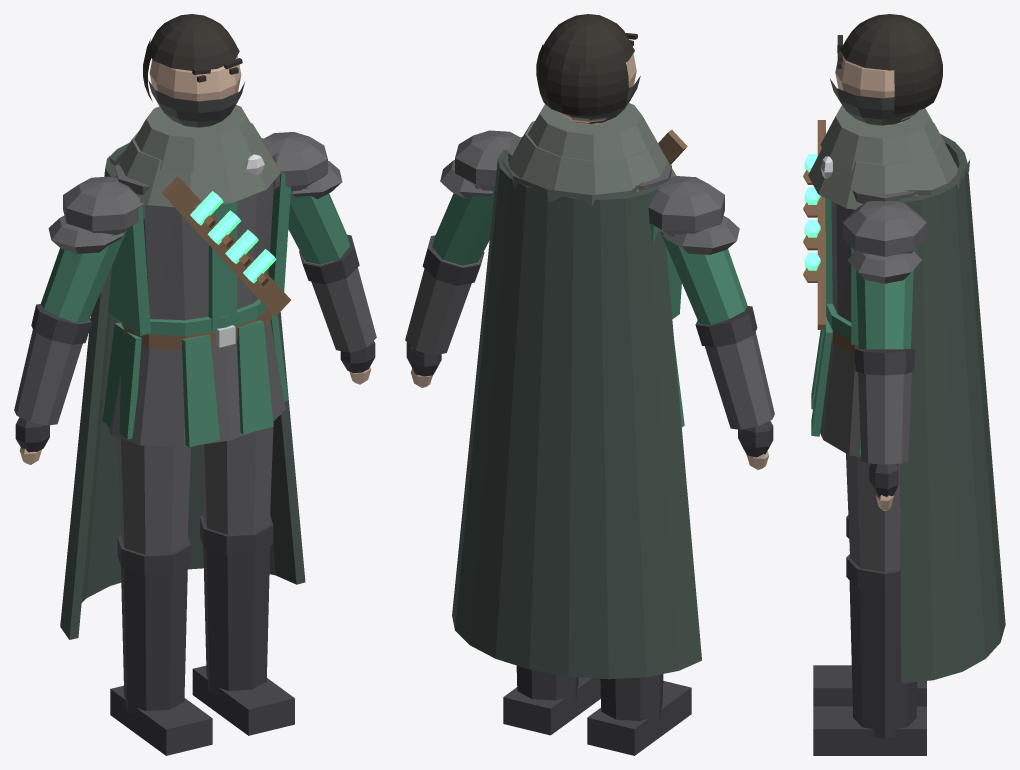
File: rogue.glb
3 renders of one model, left to right at view 1: azimuth 30°, elevation 25°; view 2: azimuth 150°, elevation 25°; view 3: azimuth 270°, elevation 25°, orthographic.
Visible parts, largest first — view 1: rogue; view 2: rogue; view 3: rogue.
Part boxes in pixels (x1,y1,x2,y2): rogue: (14,14,376,755); rogue: (405,14,774,755); rogue: (803,14,1005,755).
Bounding box in the file's own units: 0.999 × 1.85 × 0.4814.
